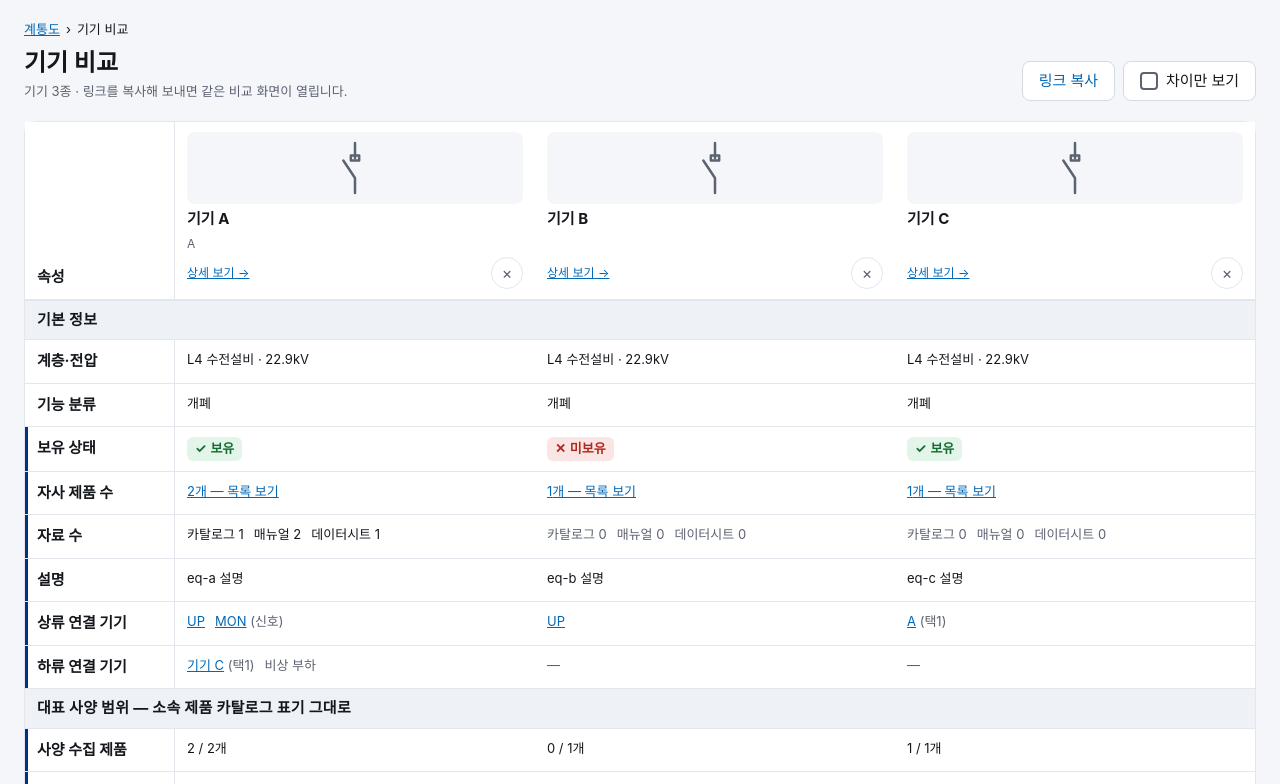
Scenario: CT-07 기기 비교 (/compare?type=equipment) › (v1.0 L7) 차이만 보기는 열 빼기에서 유지, 다른 비교로 옮기면 꺼짐
Click the button with test id "compare-diff-only" at {"x": 1190, "y": 81}, box [1123,61,1256,101]
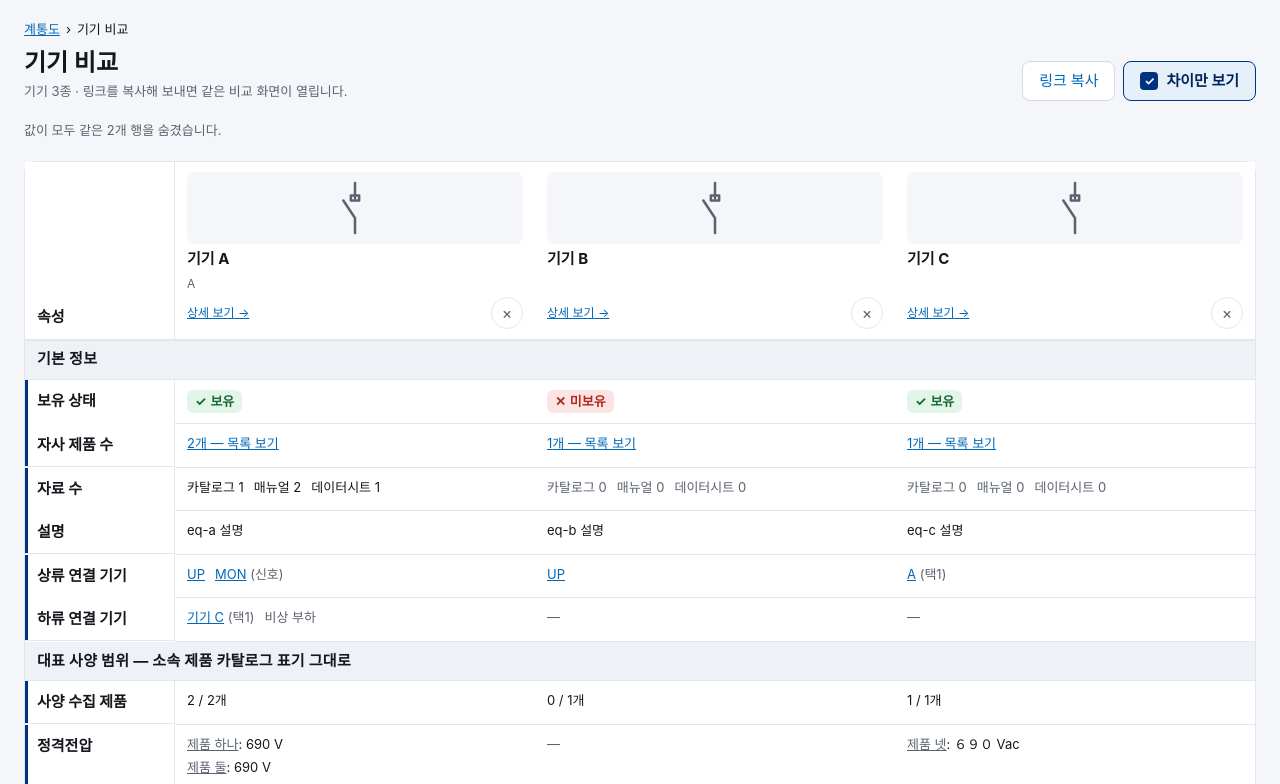
Click the button with test id "compare-remove-eq-c" at {"x": 1227, "y": 312}, box [1211,296,1243,328]
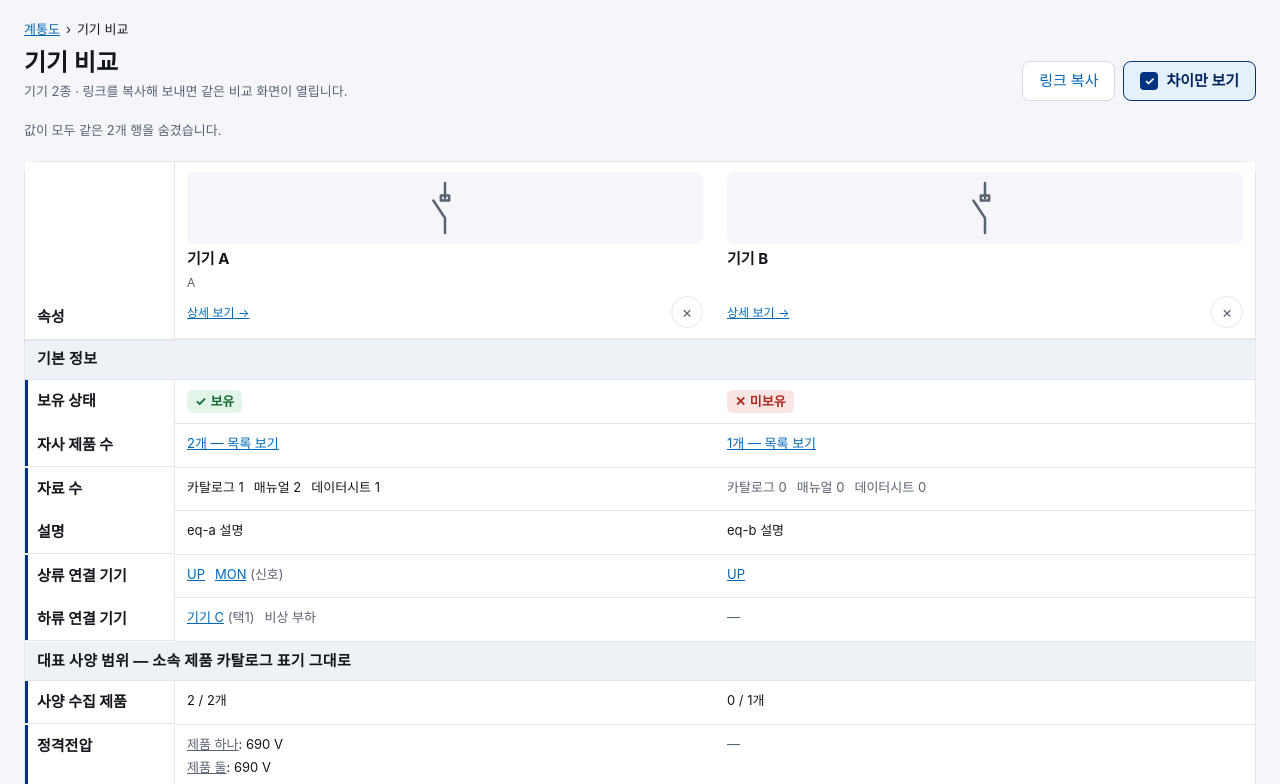
Result: the button with test id "compare-diff-only" is pressed at [1123,61,1256,101]
